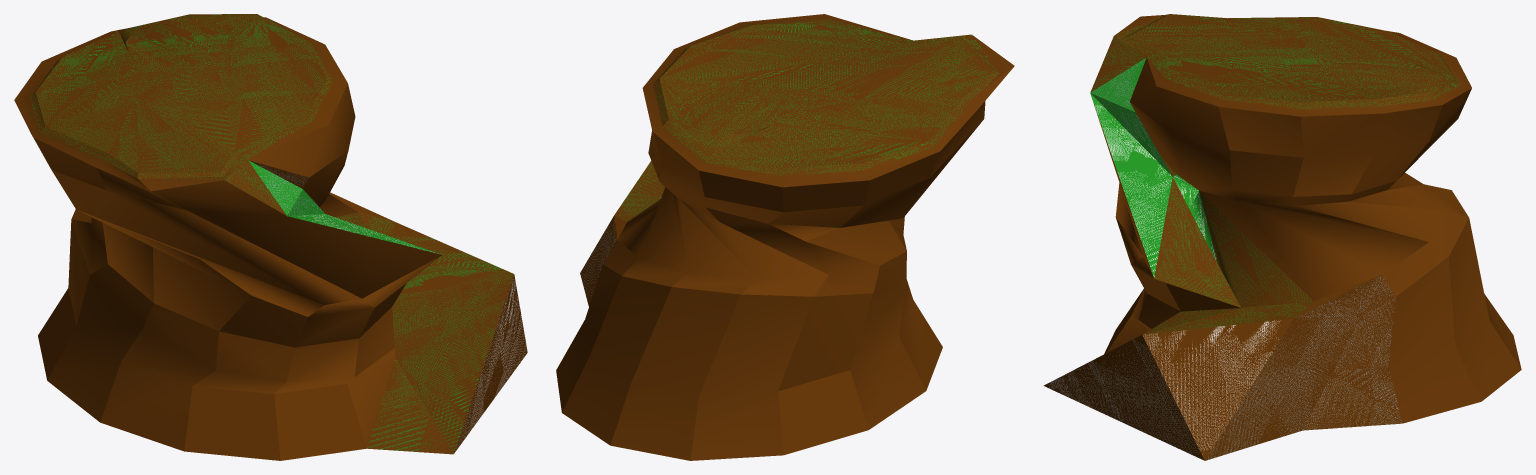
Rendered from Plateau_Grass_Ramp_01.fbx.
3 views of the same model, side by side, from view 1: azimuth 30°, elevation 25°; view 2: azimuth 150°, elevation 25°; view 3: azimuth 270°, elevation 25° (orthographic). The views are drawn at different scales.
Parts seen in each view (by area): view 1: Model; view 2: Model; view 3: Model.
Boxes of the visible parts, box(x1,y1,x2,y2) form: Model: box(14, 14, 527, 460); Model: box(556, 14, 1014, 460); Model: box(1043, 14, 1521, 460).
Bounding box in the file's own units: 1816 × 1258 × 1917.
